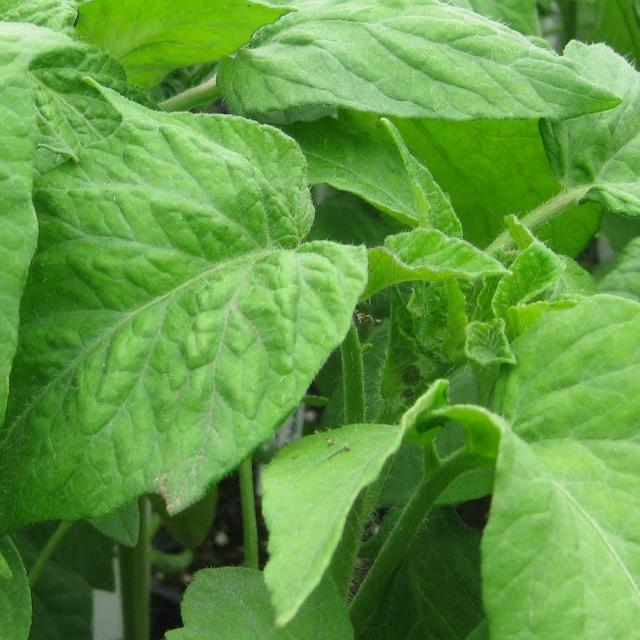Tomato leaf: (166, 0, 612, 124), (0, 0, 44, 580)
